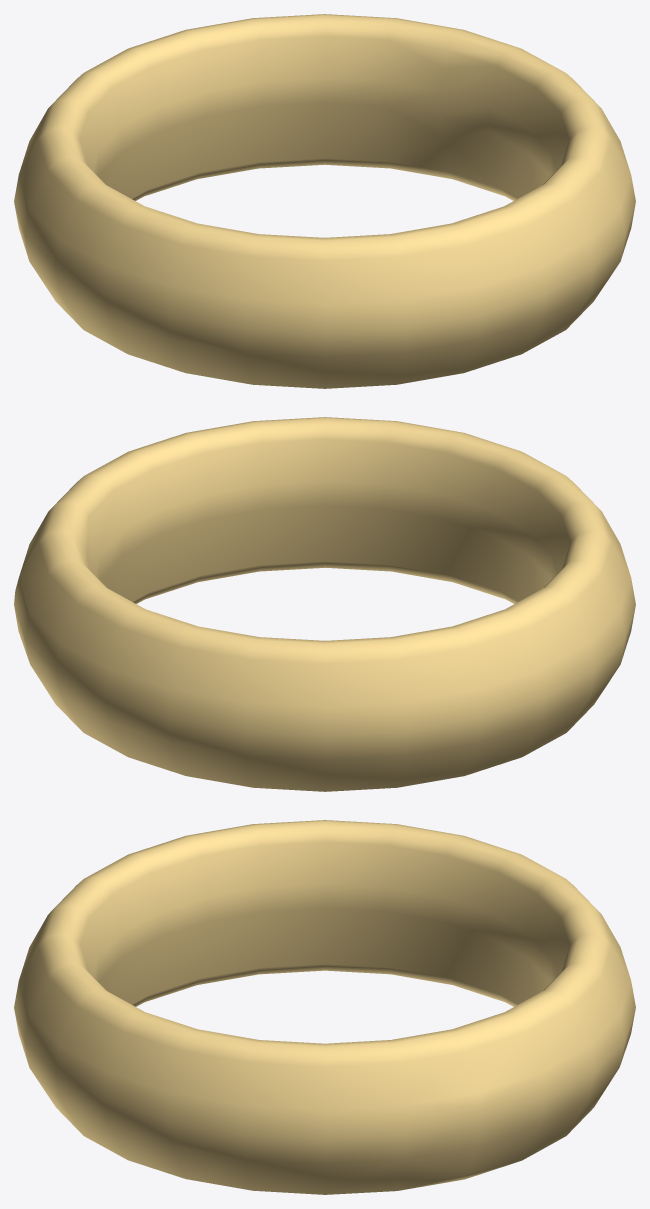
The model's file is ring.fbx.
The picture shows the model from 3 angles, top to bottom: view 1: azimuth 30°, elevation 25°; view 2: azimuth 150°, elevation 25°; view 3: azimuth 270°, elevation 25°; orthographic projection.
Parts seen in each view (by area): view 1: pTorus1; view 2: pTorus1; view 3: pTorus1.
Boxes of the visible parts, x1,y1,x2,y2 form: pTorus1: [14, 14, 635, 388]; pTorus1: [14, 417, 635, 791]; pTorus1: [14, 820, 635, 1194].
Bounding box in the file's own units: 7.55 × 7.54 × 1.96.
Materials: 1 (1 with a texture image).
